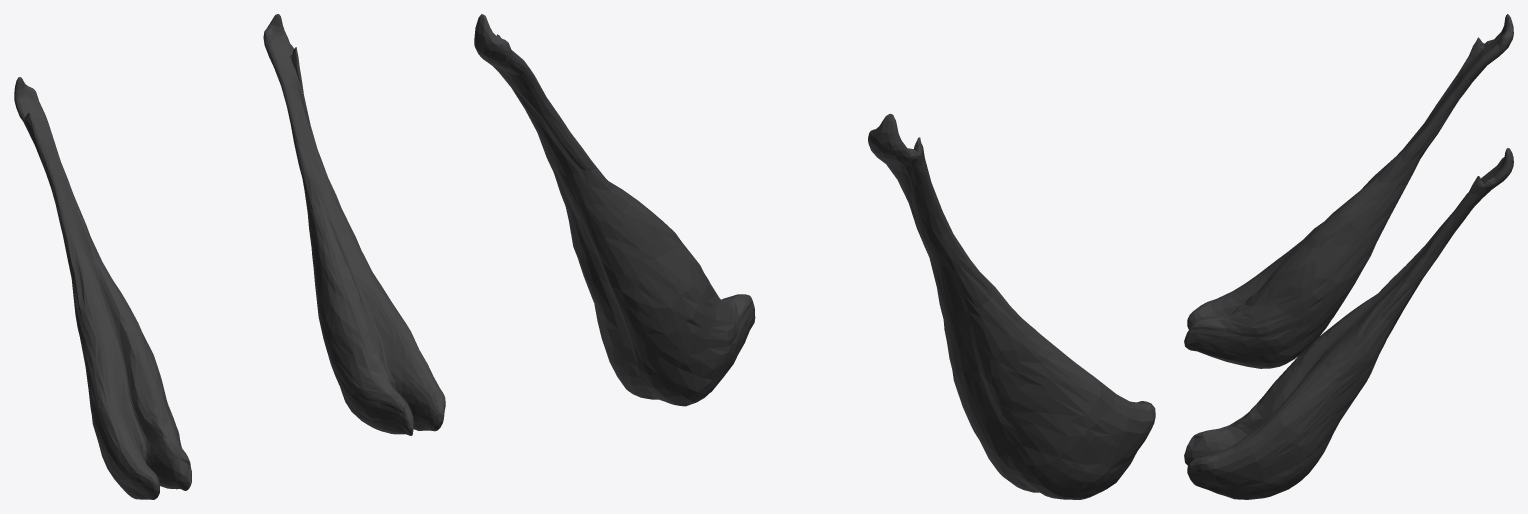
Rendered from m_gastrocnemius.glb.
The picture shows the model from 3 angles, left to right: view 1: azimuth 30°, elevation 25°; view 2: azimuth 150°, elevation 25°; view 3: azimuth 270°, elevation 25°; orthographic projection. The views are drawn at different scales.
Visible parts, largest first — view 1: m_gastrocnemius; view 2: m_gastrocnemius; view 3: m_gastrocnemius.
Part boxes in pixels (<box>): m_gastrocnemius: <box>14,14,445,499</box>; m_gastrocnemius: <box>474,14,1155,499</box>; m_gastrocnemius: <box>1184,14,1513,499</box>.
Bounding box in the file's own units: 0.0544 × 0.0531 × 0.0459.
1 material, 1 textured.
